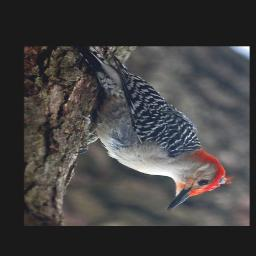Woodpecker: (74, 47, 234, 210)
